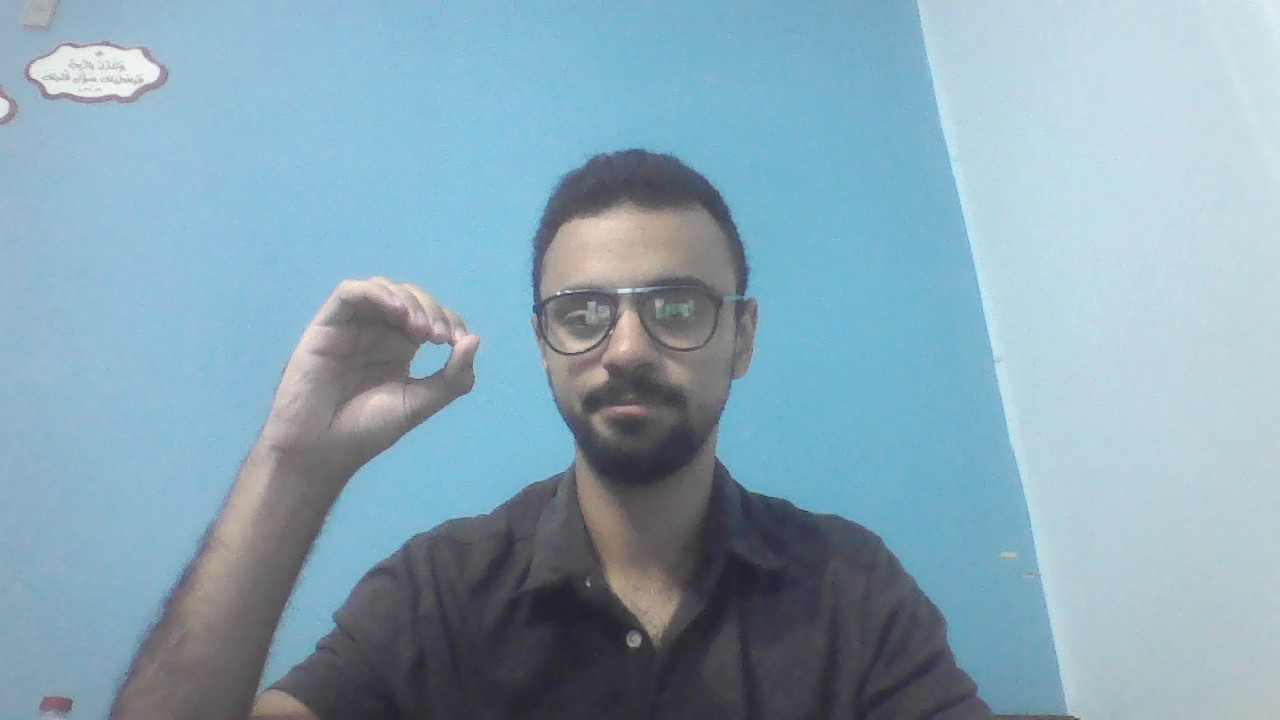okay: (269, 274, 479, 454)
